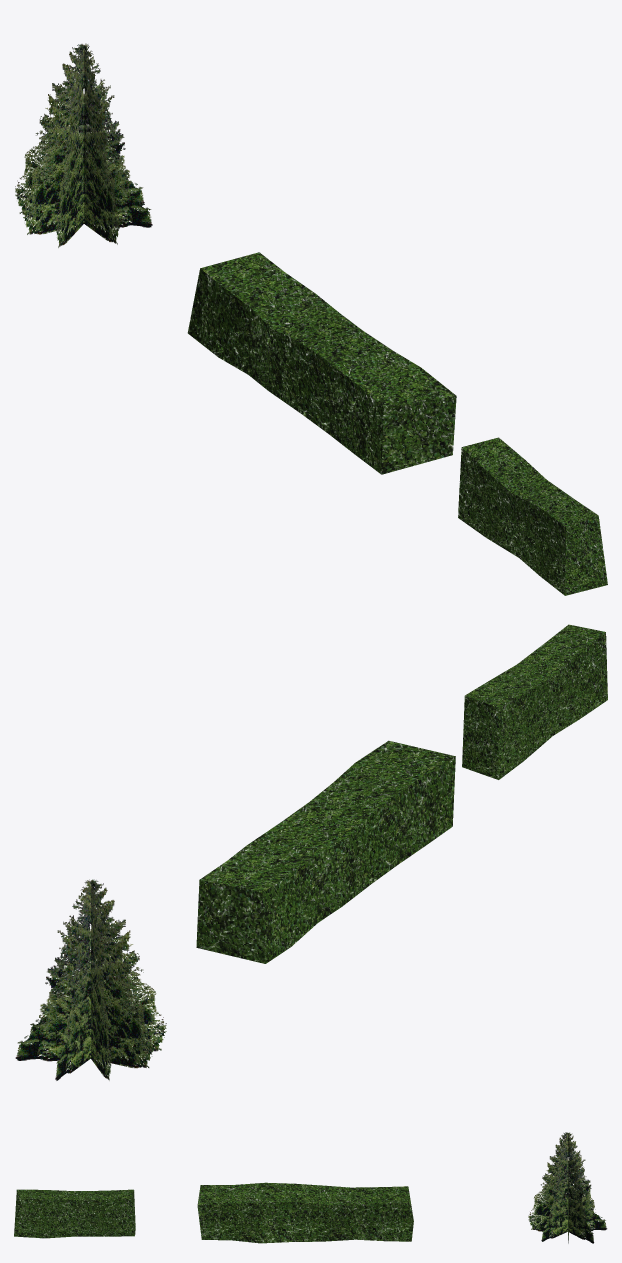
File: foliage.glb
The picture shows the model from 3 angles, top to bottom: view 1: azimuth 30°, elevation 25°; view 2: azimuth 150°, elevation 25°; view 3: azimuth 270°, elevation 25°; orthographic projection. The views are drawn at different scales.
Parts seen in each view (by area): view 1: Cube, Plane.002, Cube.001; view 2: Cube, Plane.002, Cube.001; view 3: Cube, Cube.001, Plane.002.
Part boxes in pixels (<box>): Cube: <box>187,252,456,474</box>; Plane.002: <box>15,43,152,247</box>; Cube.001: <box>458,437,607,595</box>; Cube: <box>196,740,455,963</box>; Plane.002: <box>15,879,166,1080</box>; Cube.001: <box>462,624,607,779</box>; Cube: <box>197,1182,413,1243</box>; Cube.001: <box>14,1189,135,1238</box>; Plane.002: <box>528,1132,607,1243</box>.
Bounding box in the file's own units: 3.9 × 5.38 × 28.86.
2 materials, 2 textured.
